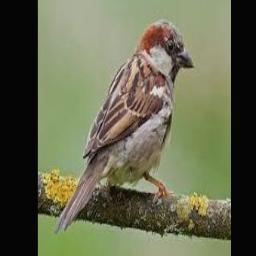Sparrow: (55, 20, 195, 232)
